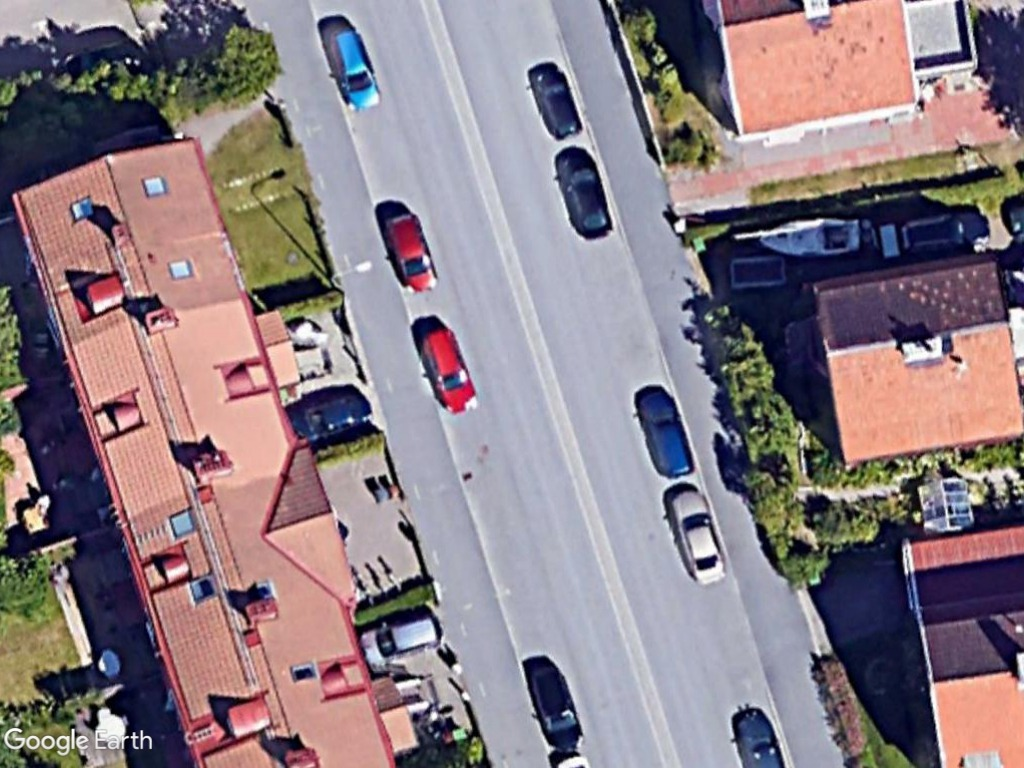car: (664, 478, 731, 590), (413, 319, 484, 421), (552, 138, 619, 246), (631, 381, 698, 484), (318, 20, 387, 118), (523, 657, 589, 757), (523, 58, 589, 147), (380, 209, 446, 298), (358, 606, 446, 667), (285, 386, 372, 447)
